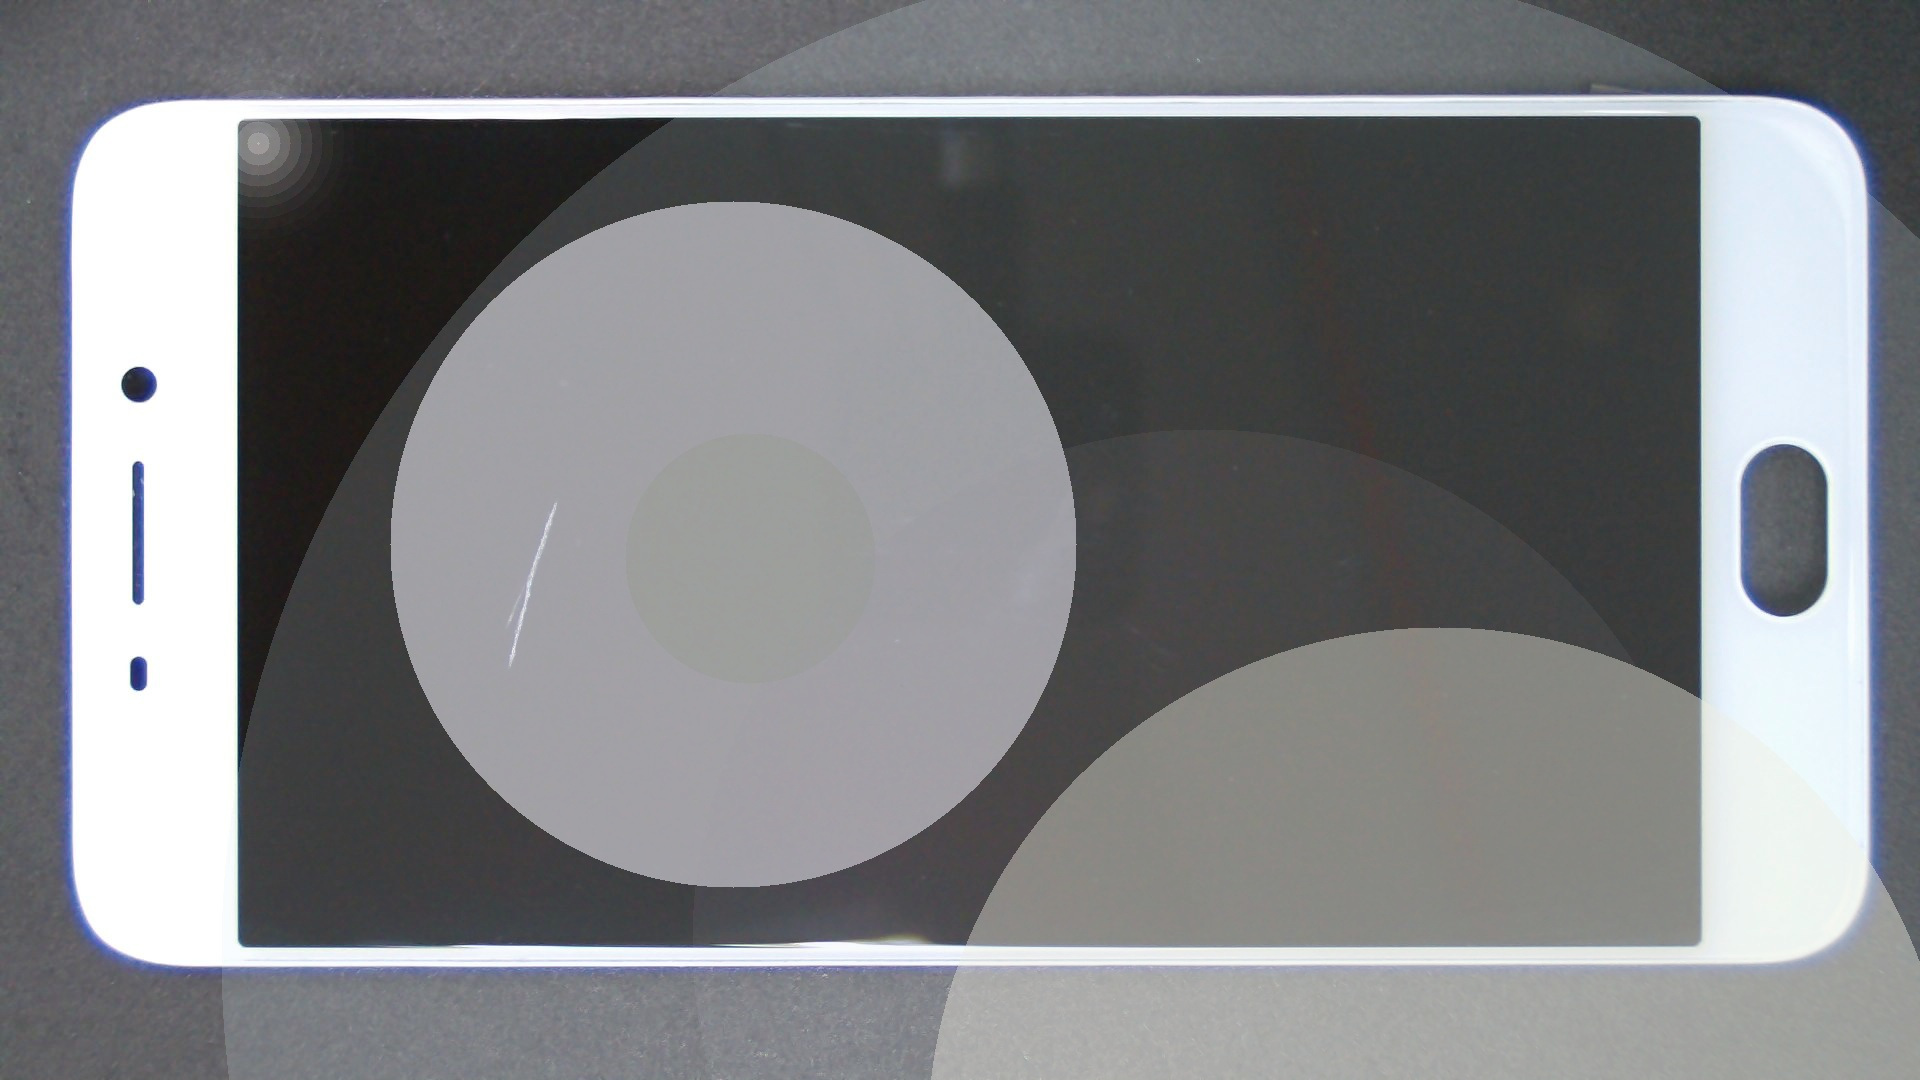oil: (277, 251, 831, 753)
